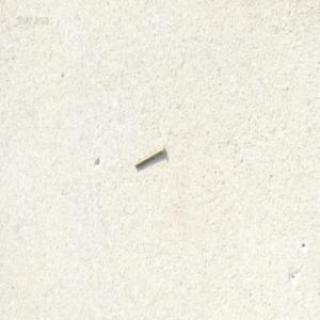Bolttrack_idkeyframe: (133, 143, 164, 167)
